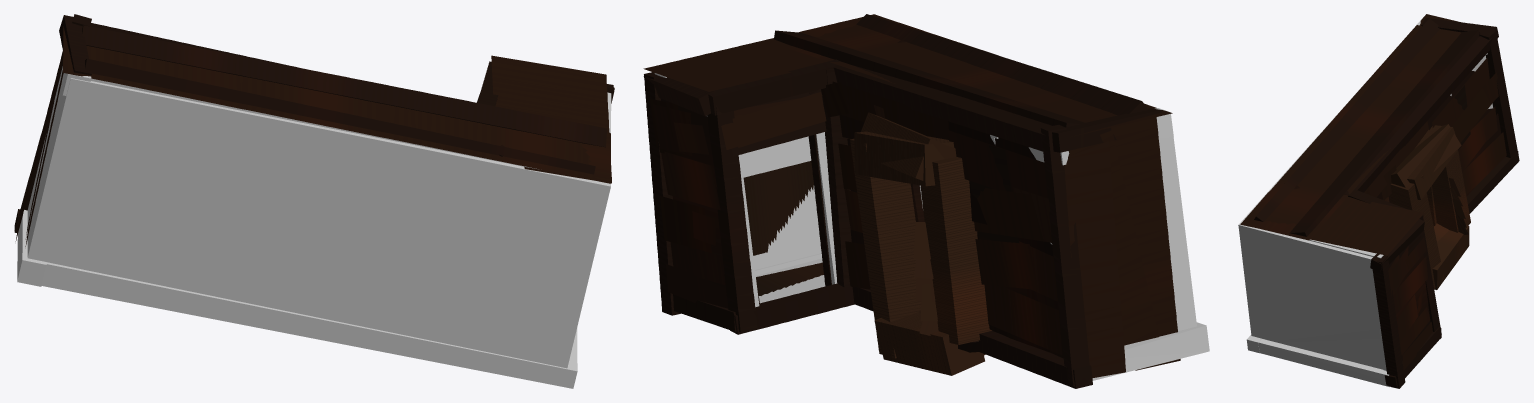
Rendered from Rooma_09_quill.fbx.
3 views of the same model, side by side, from view 1: azimuth 30°, elevation 25°; view 2: azimuth 150°, elevation 25°; view 3: azimuth 270°, elevation 25° (orthographic). The views are drawn at different scales.
Visible parts, largest first — view 1: refm.obj, NewLayer0; view 2: NewLayer0, refm.obj; view 3: NewLayer0, refm.obj.
Part boxes in pixels (x1,y1,x2,y2): refm.obj: (17,66,611,388); NewLayer0: (14,14,614,246); NewLayer0: (643,14,1180,388); refm.obj: (654,73,1209,380); NewLayer0: (1240,14,1519,388); refm.obj: (1238,16,1492,386).
Size of the model in its own units: 0.1337 by 0.0739 by 0.0862.
